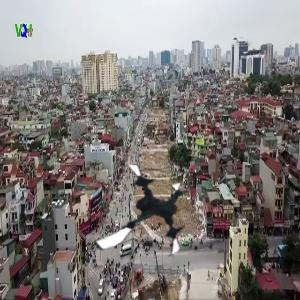drone: (86, 159, 198, 271)
